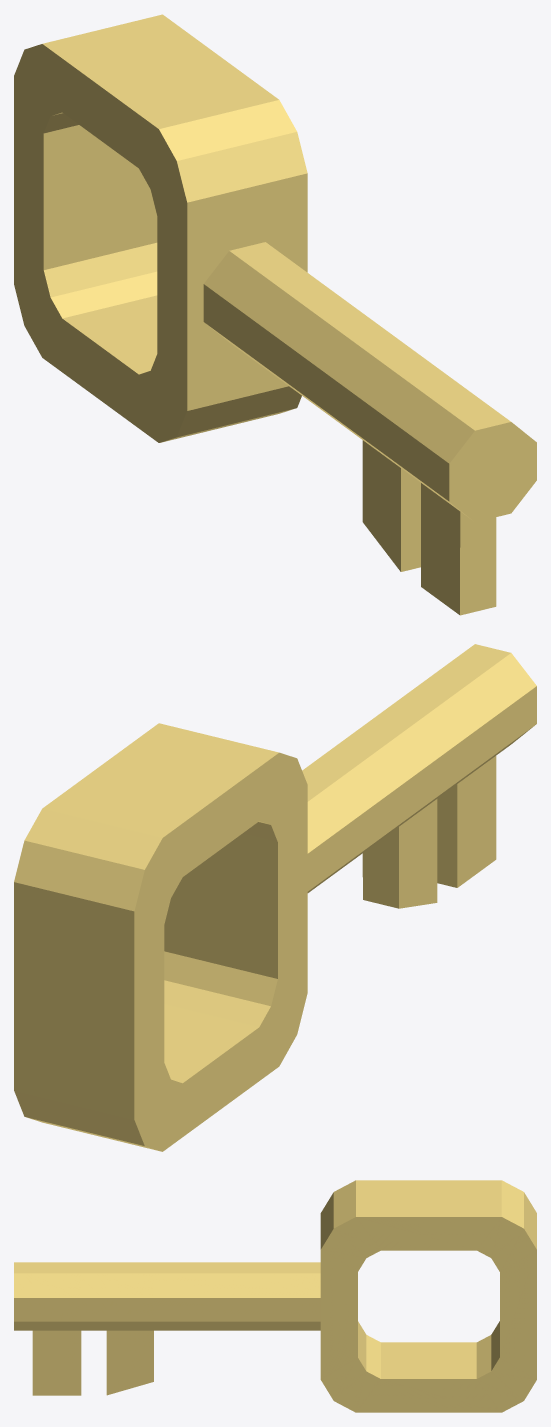
Rendered from Key_Gold.glb.
3 renders of one model, top to bottom at view 1: azimuth 30°, elevation 25°; view 2: azimuth 150°, elevation 25°; view 3: azimuth 270°, elevation 25°, orthographic. The views are drawn at different scales.
Parts seen in each view (by area): view 1: Cube.001, Cube; view 2: Cube.001, Cube; view 3: Cube.001, Cube.
Boxes of the visible parts, x1,y1,x2,y2 form: Cube.001: (14, 14, 307, 442); Cube: (203, 242, 536, 615); Cube.001: (14, 723, 307, 1151); Cube: (302, 644, 536, 908); Cube.001: (320, 1180, 536, 1412); Cube: (14, 1262, 320, 1395).
Size of the model in its own units: 0.1285 by 0.32 by 0.774.
